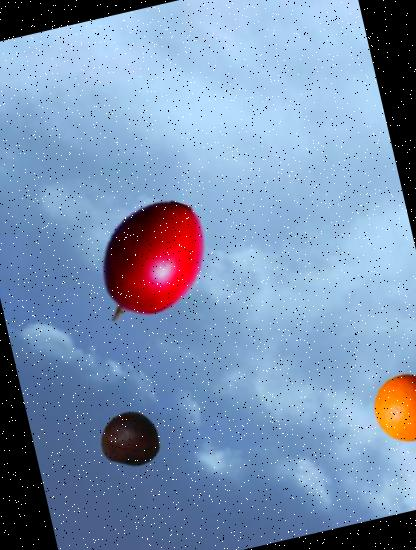Chestnut: (96, 402, 168, 474)
Orange: (367, 366, 416, 450)
Tamarillo: (71, 183, 232, 344)
